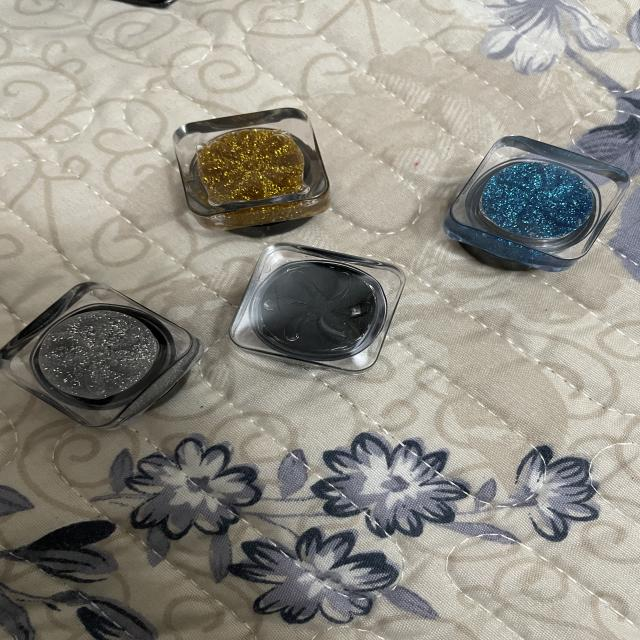eye shade: (0, 271, 215, 435), (150, 94, 344, 240), (445, 131, 638, 274), (225, 238, 417, 380)
